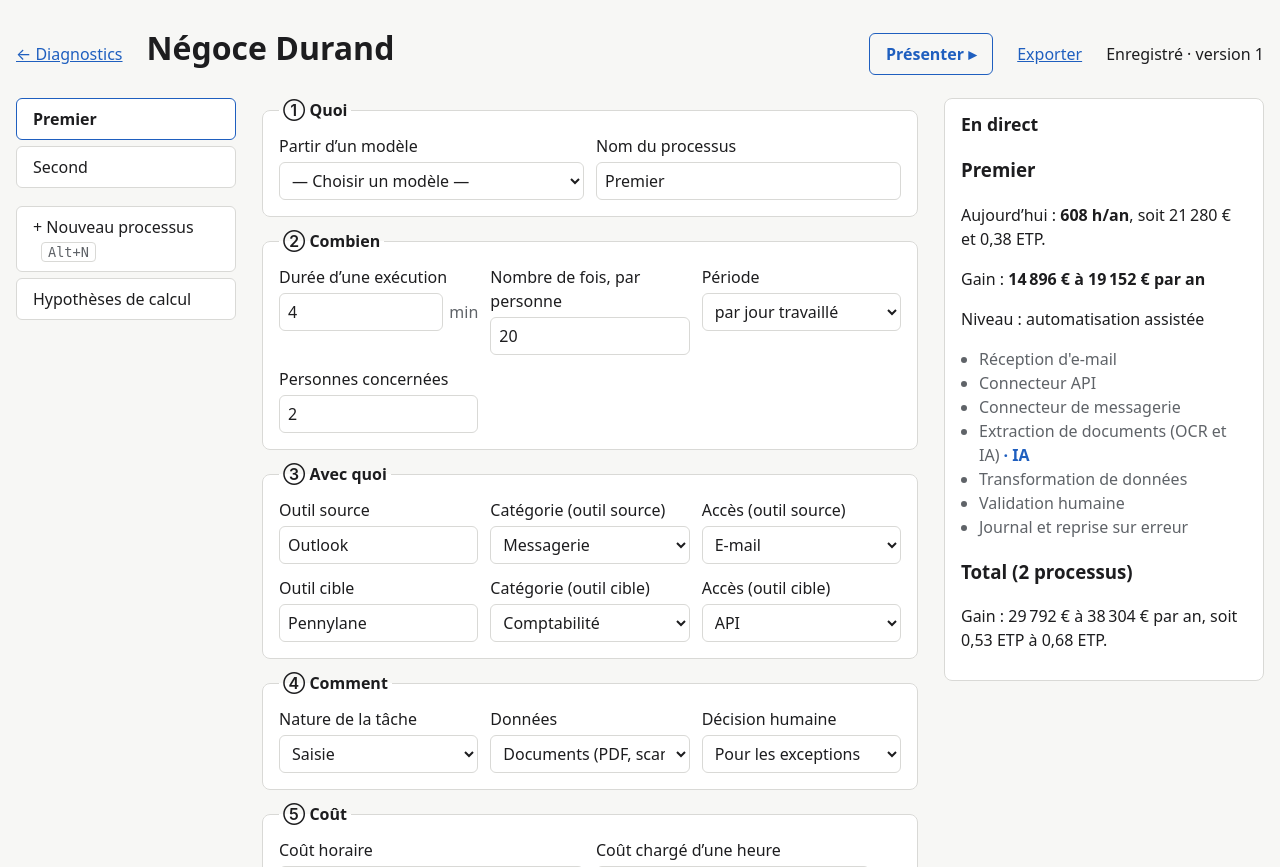
Entretien › passe d’un processus à l’autre au clavier
This screenshot has width=1280, height=867.
Expected: the heading "Négoce Durand" is shown, [146,26,394,69]
Type keys "{Alt>}{ArrowUp}{/Alt}"
Expected: the field labelled "Nom du processus" holds "Premier", [596,162,901,200]
Type keys "{Alt>}{ArrowDown}{/Alt}"
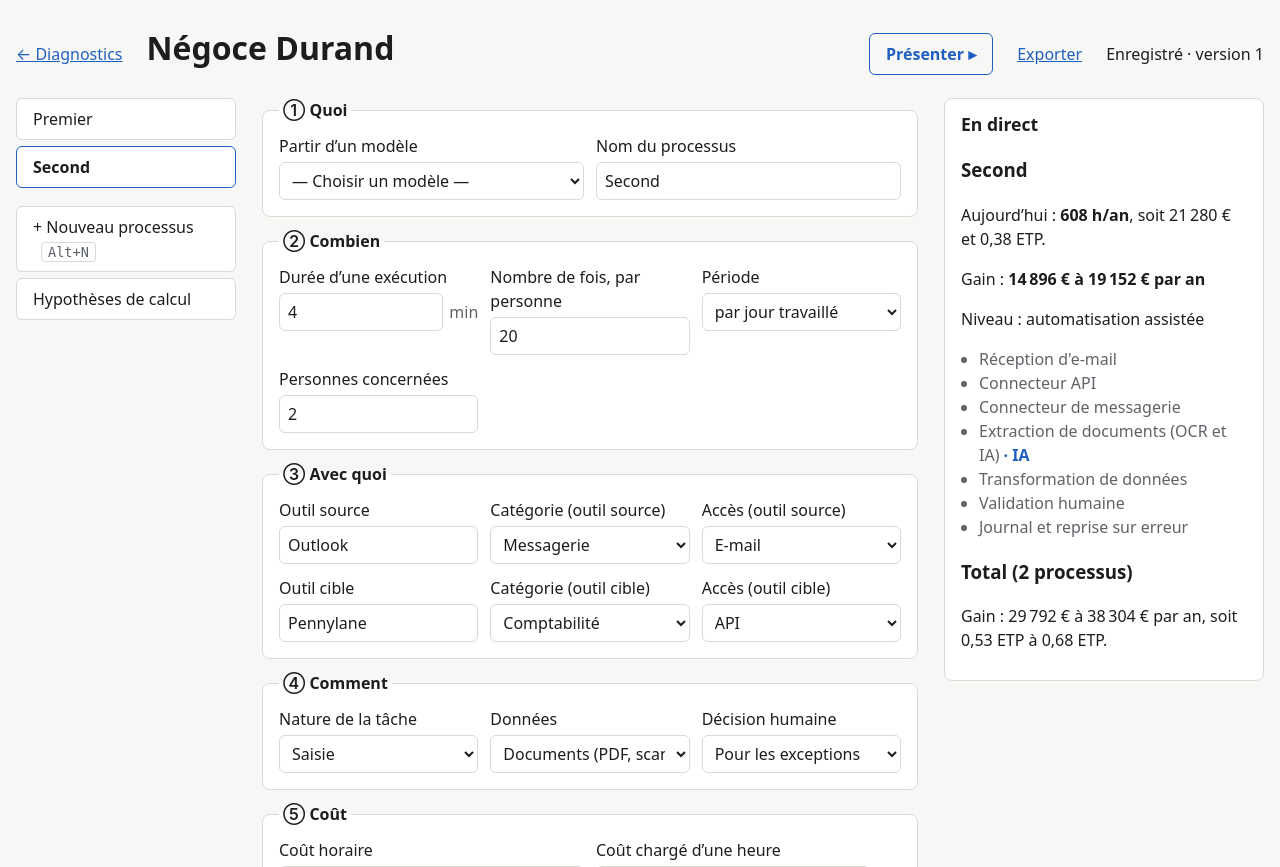
Result: the field labelled "Nom du processus" holds "Second" at [596,162,901,200]
Type keys "{Alt>}{ArrowDown}{/Alt}"
Result: the field labelled "Nom du processus" holds "Second" at [596,162,901,200]
Type keys "{Alt>}{ArrowUp}{/Alt}"
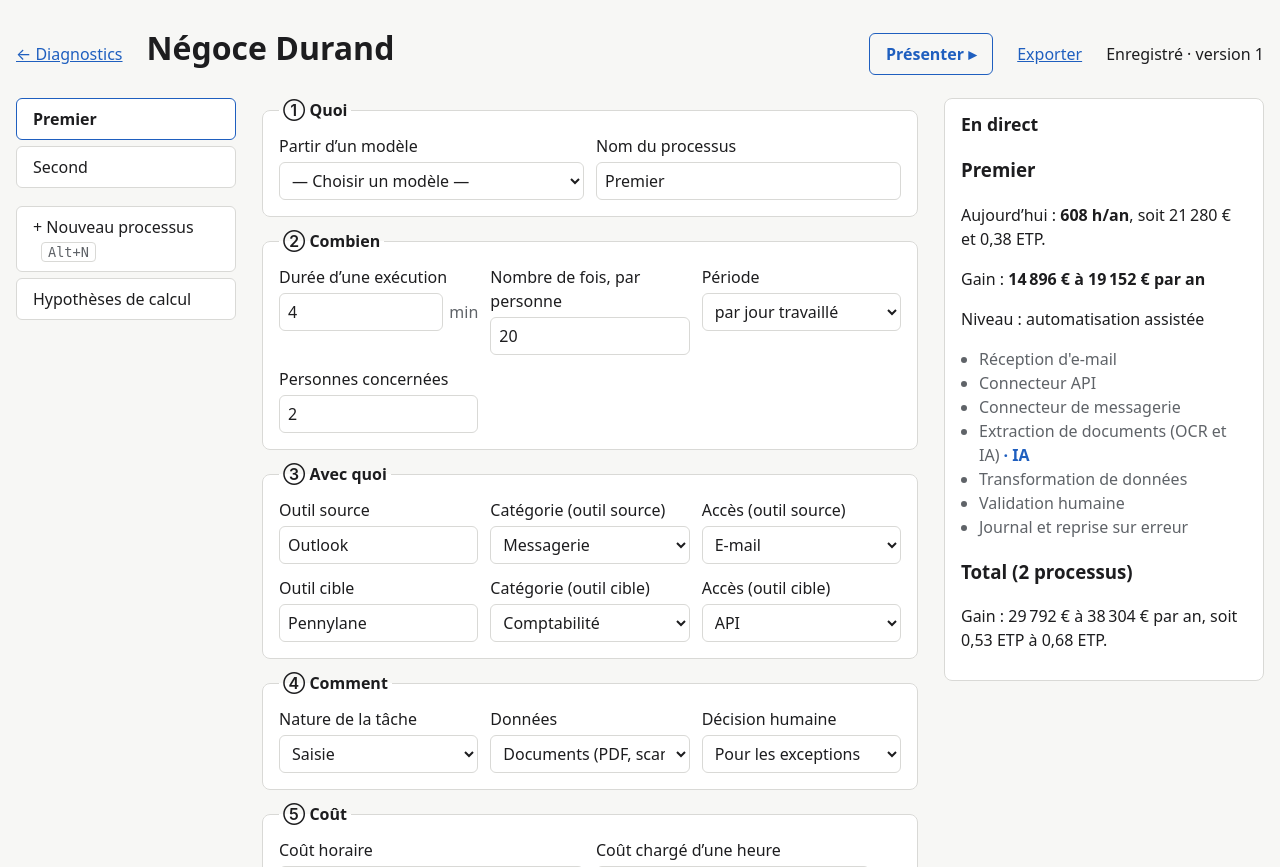
Result: the field labelled "Nom du processus" holds "Premier" at [596,162,901,200]
Click the button "Second": (126,167) [16,146,236,188]
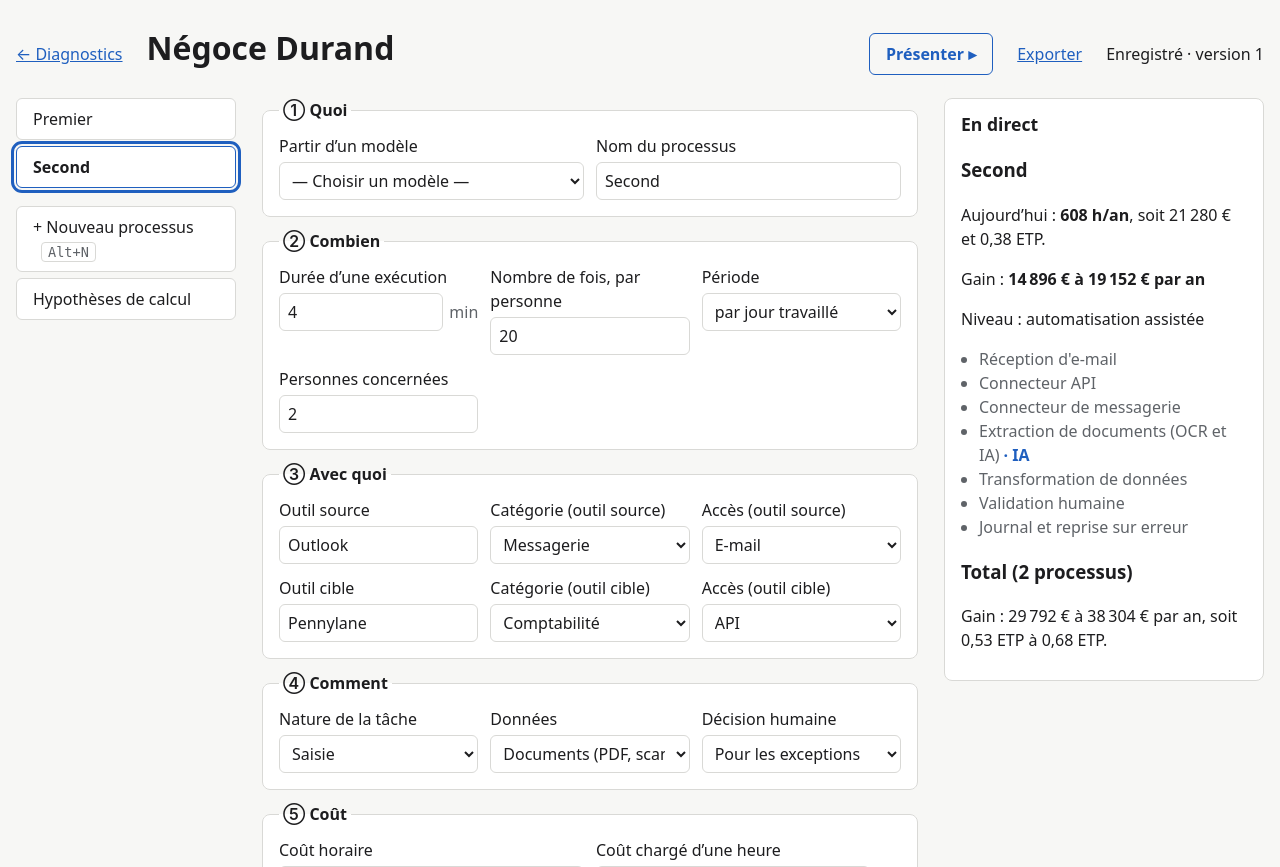
Click the button "Premier": (126,119) [16,98,236,140]
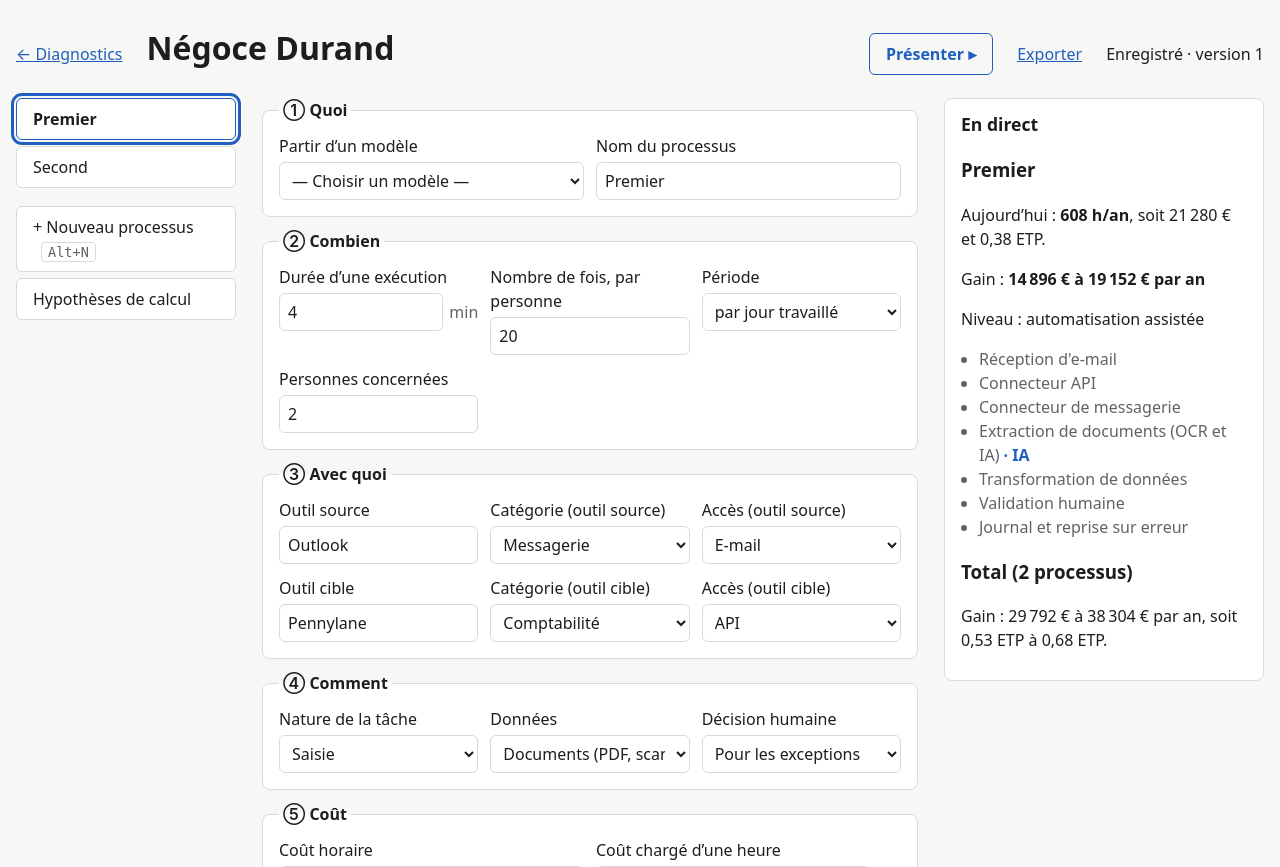
Result: the field labelled "Nom du processus" holds "Premier" at [596,162,901,200]
